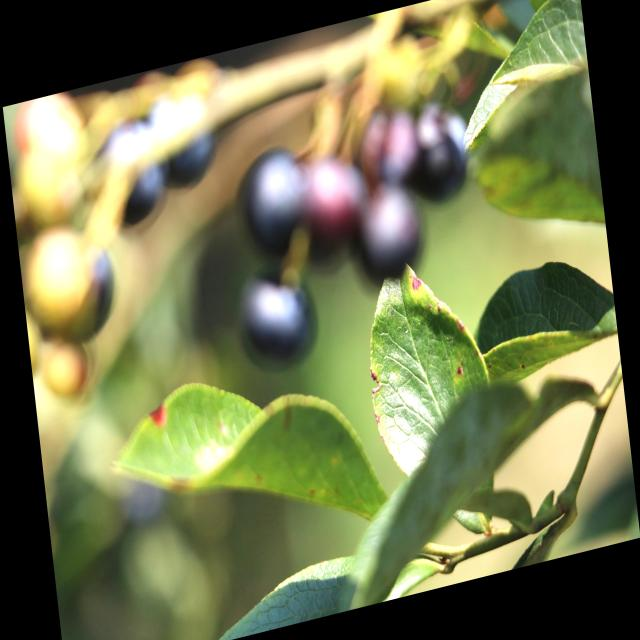blueberry: (228, 133, 325, 267), (288, 142, 379, 284), (231, 254, 325, 386), (341, 175, 431, 304), (92, 112, 179, 245), (141, 80, 226, 202), (400, 92, 480, 217), (49, 240, 125, 351), (354, 96, 426, 199)
